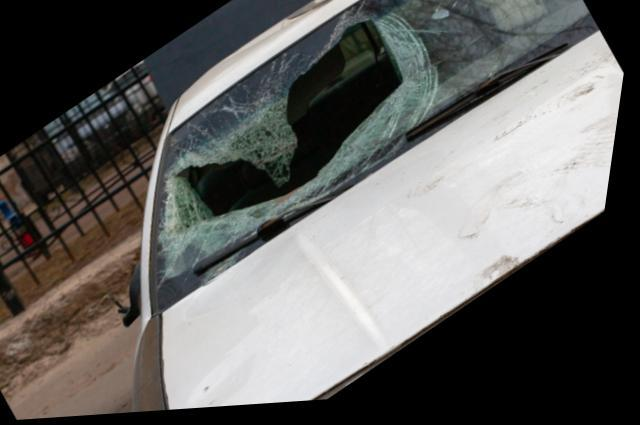glass shatter: (163, 0, 601, 316)
